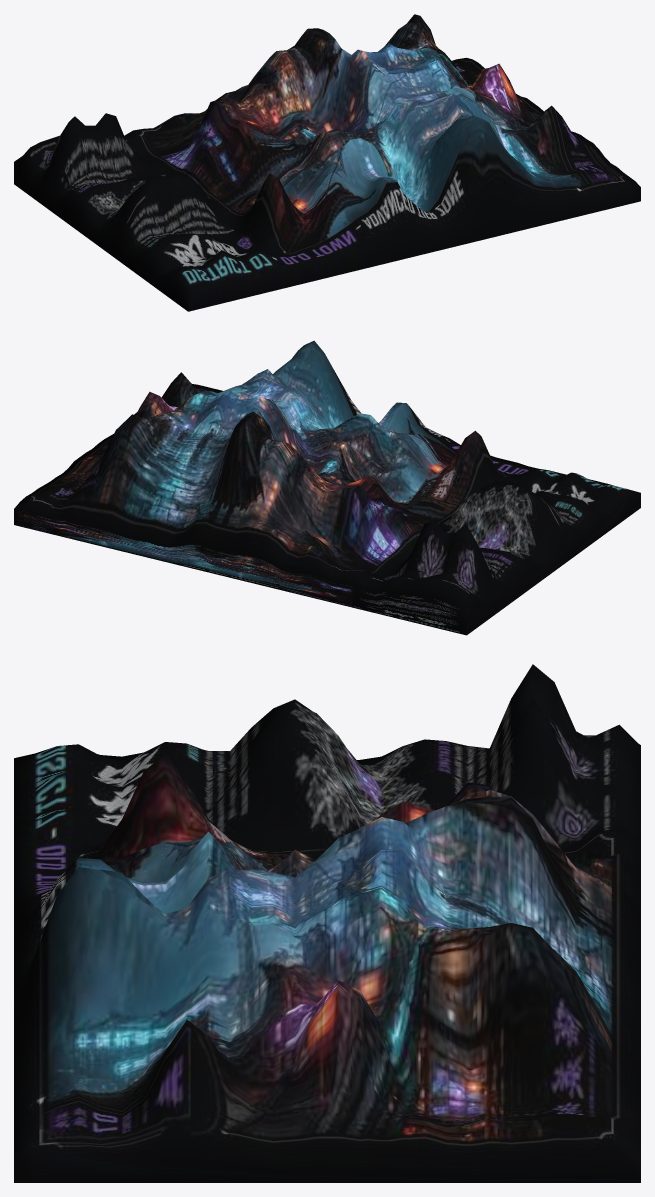
The model's file is DISTRICT_07_Old_Town.glb.
3 views of the same model, one above another, from view 1: azimuth 30°, elevation 25°; view 2: azimuth 150°, elevation 25°; view 3: azimuth 270°, elevation 25° (orthographic). The views are drawn at different scales.
Visible parts, largest first — view 1: DISTRICT_07_Old_Town; view 2: DISTRICT_07_Old_Town; view 3: DISTRICT_07_Old_Town.
Part boxes in pixels (left/top/right/bottom): DISTRICT_07_Old_Town: left=14, top=14, right=640, bottom=311; DISTRICT_07_Old_Town: left=14, top=340, right=640, bottom=635; DISTRICT_07_Old_Town: left=14, top=664, right=640, bottom=1182.
Bounding box in the file's own units: 2 × 0.51 × 1.33.
1 material, 1 textured.
